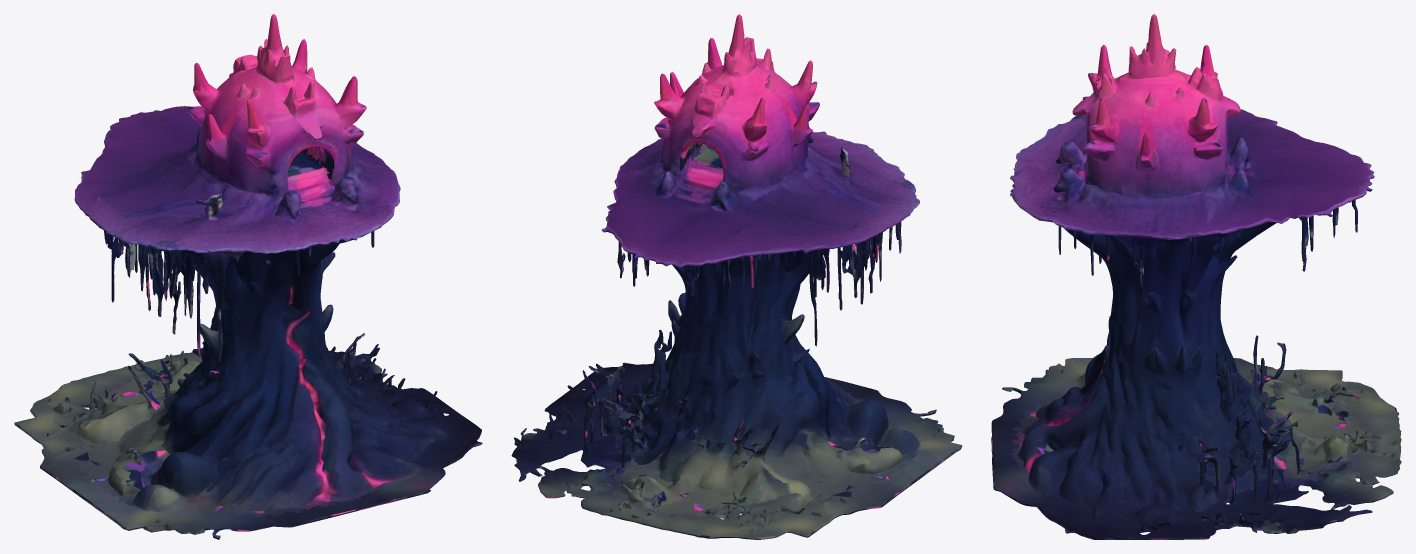
The model's file is support-column-generated-2026-05-17T19-04-08-179Z.high.glb.
3 views of the same model, side by side, from view 1: azimuth 30°, elevation 25°; view 2: azimuth 150°, elevation 25°; view 3: azimuth 270°, elevation 25° (orthographic). The views are drawn at different scales.
Visible parts, largest first — view 1: temp_mesh.ply; view 2: temp_mesh.ply; view 3: temp_mesh.ply.
Part boxes in pixels (<box>): temp_mesh.ply: <box>14,14,482,539</box>; temp_mesh.ply: <box>511,14,962,539</box>; temp_mesh.ply: <box>991,14,1401,539</box>.
Bounding box in the file's own units: 1.74 × 1.97 × 1.67.
1 material, 1 textured.
